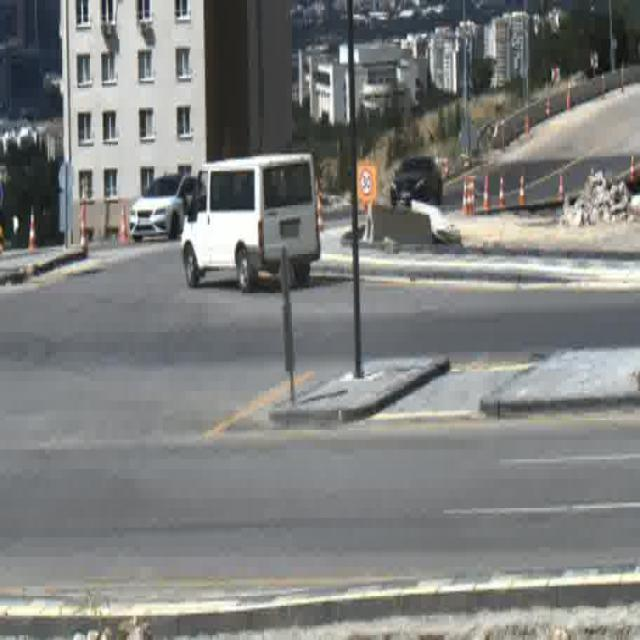Car: (178, 155, 320, 287), (129, 175, 189, 245), (390, 157, 442, 208)
